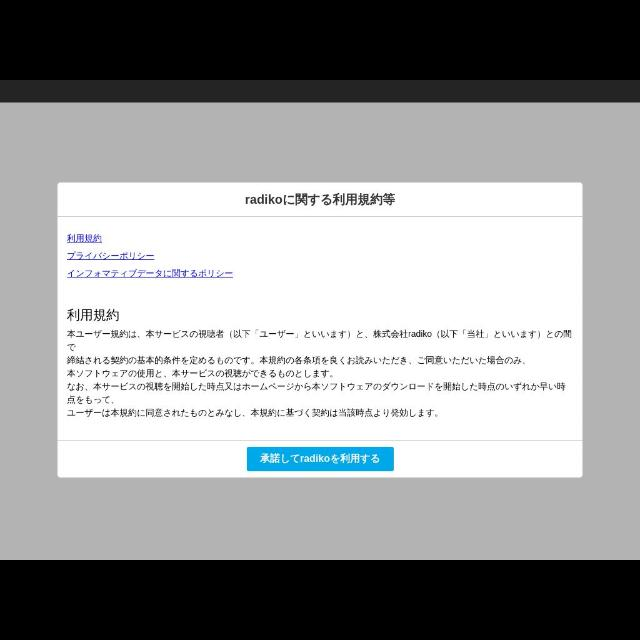link: (65, 270, 235, 280), (65, 252, 157, 262), (66, 232, 106, 244)
text: (66, 304, 576, 424), (240, 190, 398, 210), (260, 454, 380, 468)
textbutton: (248, 448, 394, 470)
